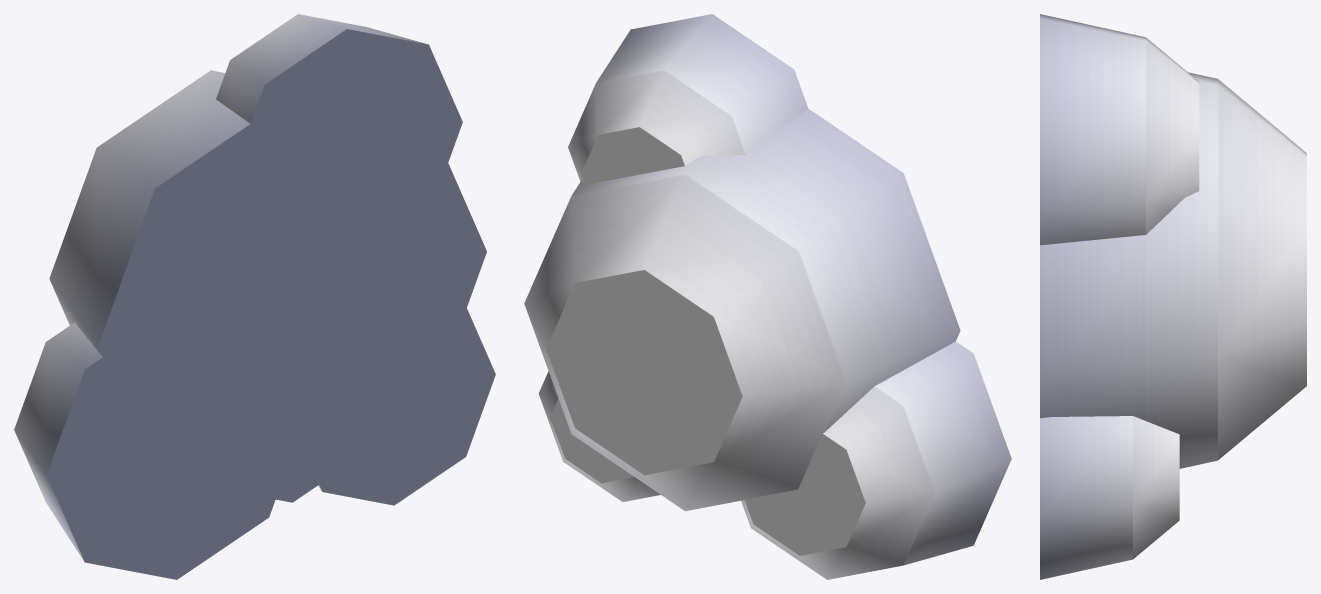
The model's file is cargo-pile-a.obj.
3 views of the same model, side by side, from view 1: azimuth 30°, elevation 25°; view 2: azimuth 150°, elevation 25°; view 3: azimuth 270°, elevation 25° (orthographic). The views are drawn at different scales.
Visible parts, largest first — view 1: cargo-pile-a.003; view 2: cargo-pile-a.003; view 3: cargo-pile-a.003.
Boxes of the visible parts, x1,y1,x2,y2 form: cargo-pile-a.003: [14, 14, 495, 579]; cargo-pile-a.003: [524, 14, 1011, 579]; cargo-pile-a.003: [1040, 14, 1306, 579].
Bounding box in the file's own units: 2.54 × 2.75 × 1.2.
